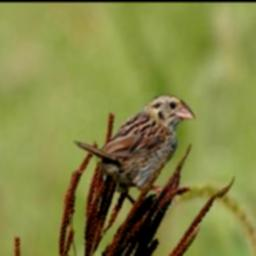Sparrow: (72, 92, 198, 210)
